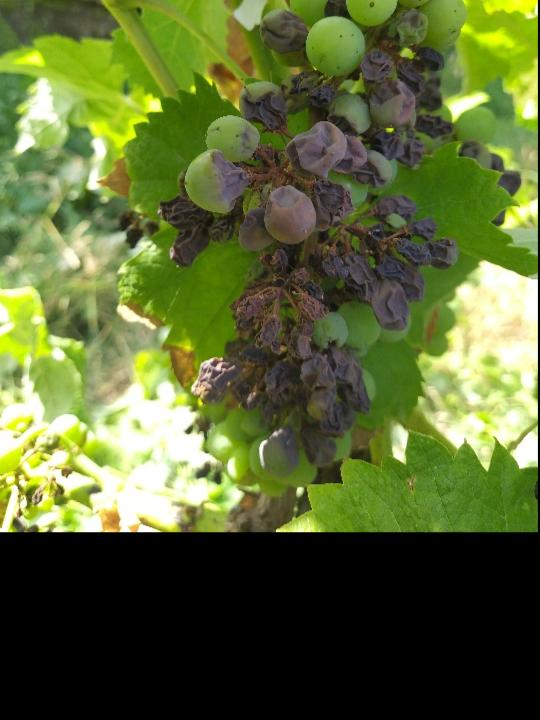grape: (153, 0, 524, 502)
